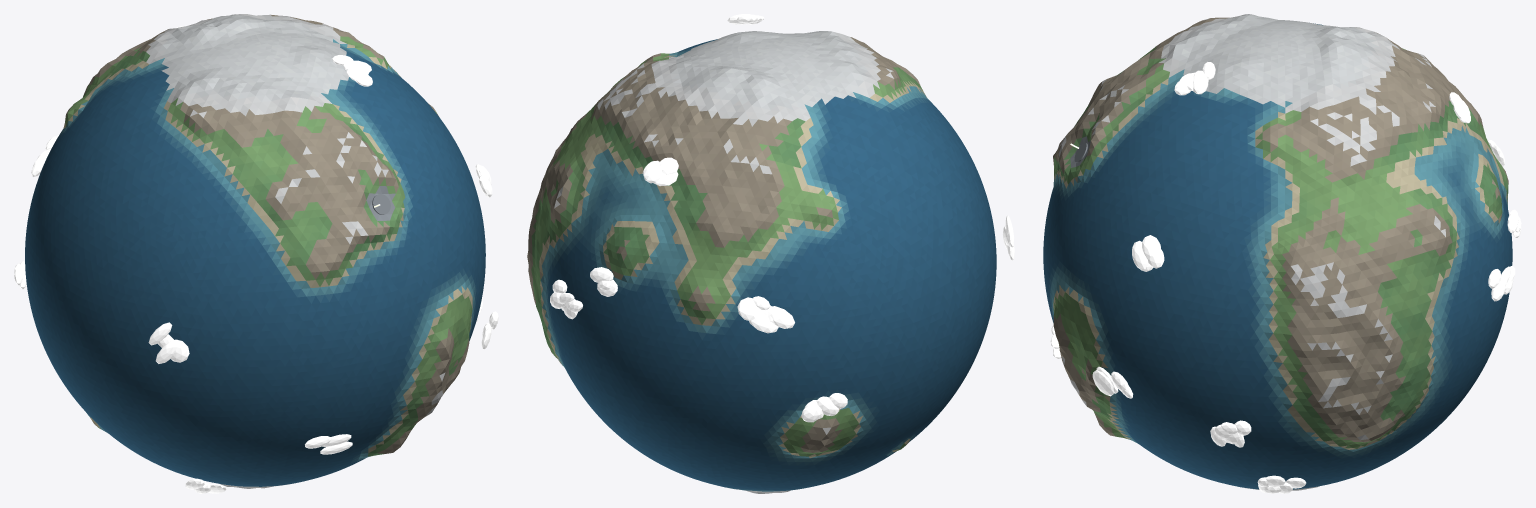
The model's file is earth.glb.
3 views of the same model, side by side, from view 1: azimuth 30°, elevation 25°; view 2: azimuth 150°, elevation 25°; view 3: azimuth 270°, elevation 25° (orthographic). The views are drawn at different scales.
Visible parts, largest first — view 1: Earth, Clouds; view 2: Earth, Clouds; view 3: Earth, Clouds.
Boxes of the visible parts, left/top/right/bottom form: Earth: left=25, top=14, right=485, bottom=488; Clouds: left=14, top=25, right=498, bottom=493; Earth: left=527, top=31, right=996, bottom=493; Clouds: left=550, top=14, right=1014, bottom=422; Earth: left=1043, top=14, right=1512, bottom=490; Clouds: left=1050, top=62, right=1521, bottom=493.
Size of the model in its own units: 204 by 207 by 204.
